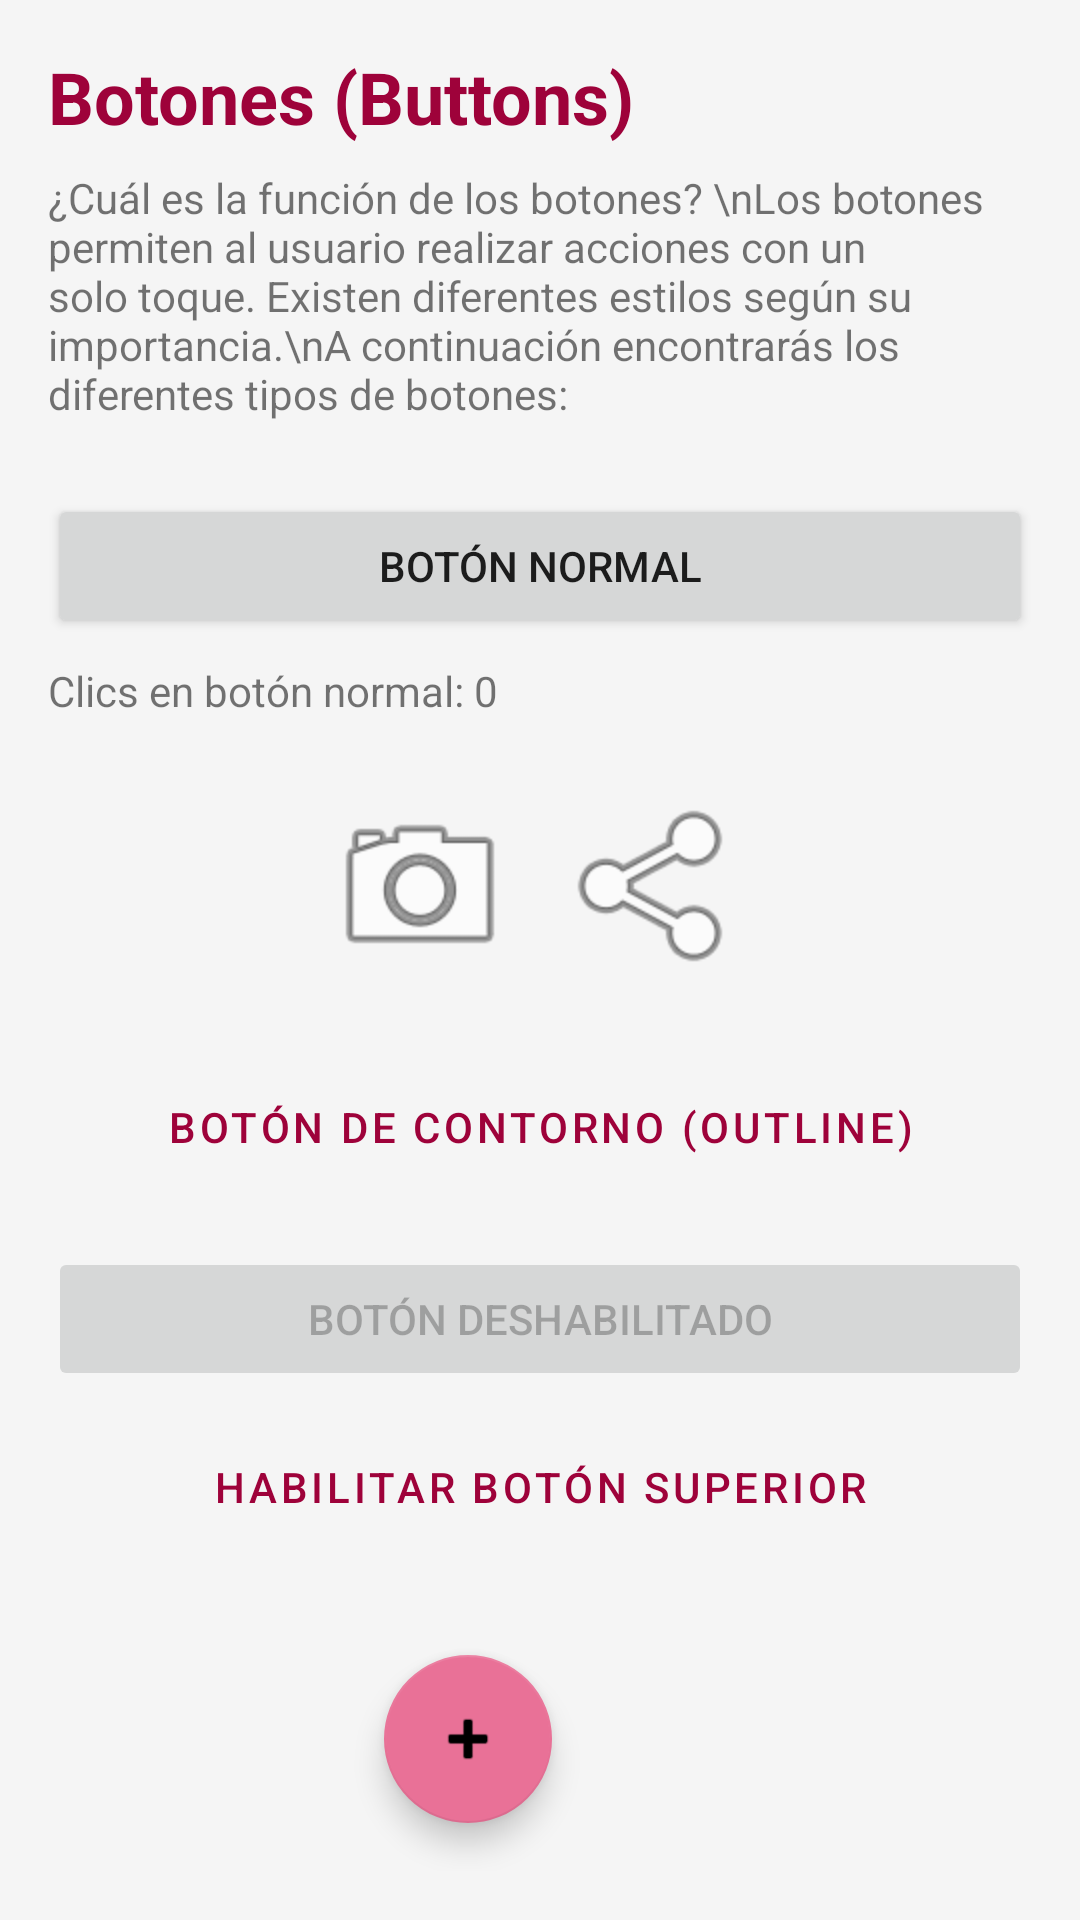

Icons on this 1080x1920 Android screen, each with the point to tap as (x=x, y=y):
Agregar: (x=468, y=1739)
Compartir: (x=650, y=886)
Cámara: (x=420, y=884)
